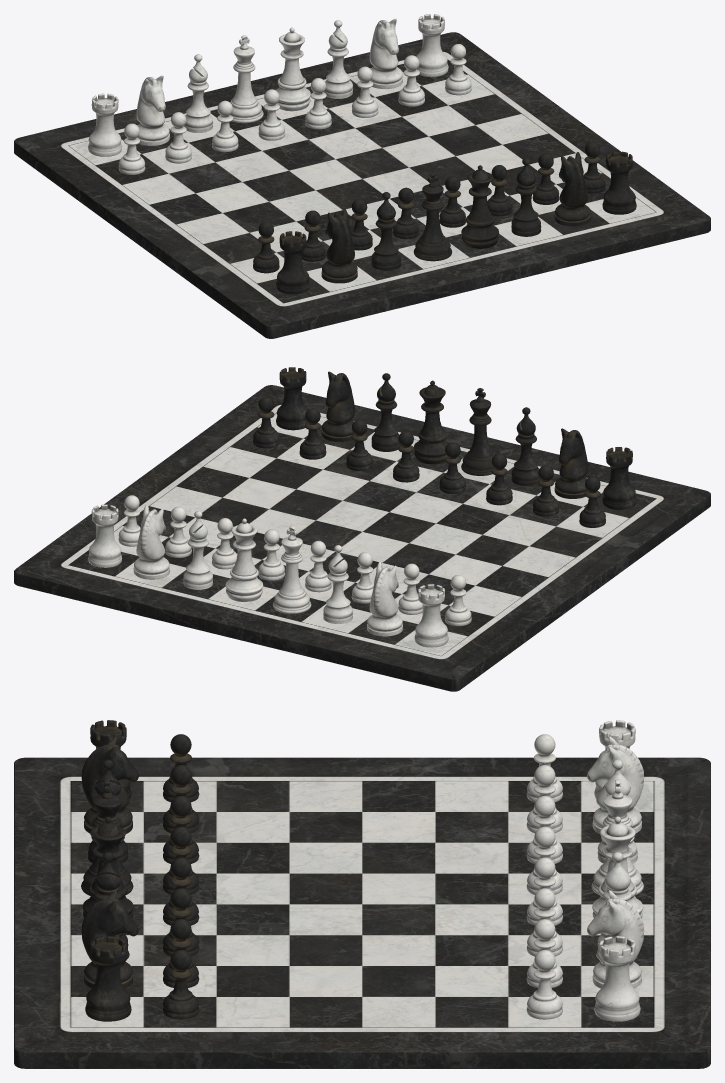
The model's file is chess_set.gltf.
3 views of the same model, one above another, from view 1: azimuth 30°, elevation 25°; view 2: azimuth 150°, elevation 25°; view 3: azimuth 270°, elevation 25° (orthographic). The views are drawn at different scales.
Visible parts, largest first — view 1: board, piece_queen_black, piece_knight_black_01, piece_knight_black_02, piece_queen_white, piece_knight_white_02, piece_knight_white_01, piece_king_black, piece_king_white, piece_rook_black_01, piece_rook_black_02, piece_rook_white_02 (+21 smaller); view 2: board, piece_queen_white, piece_knight_white_01, piece_knight_white_02, piece_queen_black, piece_knight_black_01, piece_knight_black_02, piece_king_white, piece_king_black, piece_rook_white_02, piece_rook_black_01, piece_rook_white_01 (+21 smaller); view 3: board, piece_rook_black_02, piece_rook_white_01, piece_knight_black_02, piece_knight_white_01, piece_knight_black_01, piece_knight_white_02, piece_queen_white, piece_queen_black, piece_pawn_white_01, piece_pawn_black_08, piece_king_white (+21 smaller).
Boxes of the visible parts, x1=… form: board: x1=14, y1=32, x2=710, y2=338; piece_queen_black: x1=461, y1=165, x2=498, y2=248; piece_knight_black_01: x1=321, y1=209, x2=357, y2=283; piece_knight_black_02: x1=554, y1=152, x2=590, y2=226; piece_queen_white: x1=275, y1=27, x2=310, y2=111; piece_knight_white_02: x1=136, y1=75, x2=169, y2=145; piece_knight_white_01: x1=369, y1=18, x2=402, y2=88; piece_king_black: x1=413, y1=173, x2=452, y2=261; piece_king_white: x1=230, y1=35, x2=263, y2=123; piece_rook_black_01: x1=276, y1=231, x2=310, y2=294; piece_rook_black_02: x1=602, y1=151, x2=636, y2=214; piece_rook_white_02: x1=88, y1=93, x2=122, y2=156; board: x1=14, y1=385, x2=710, y2=691; piece_queen_white: x1=225, y1=518, x2=263, y2=601; piece_knight_white_01: x1=133, y1=505, x2=169, y2=579; piece_knight_white_02: x1=367, y1=562, x2=402, y2=636; piece_queen_black: x1=414, y1=380, x2=448, y2=464; piece_knight_black_01: x1=554, y1=428, x2=588, y2=498; piece_knight_black_02: x1=321, y1=371, x2=354, y2=442; piece_king_white: x1=272, y1=526, x2=311, y2=613; piece_king_black: x1=461, y1=388, x2=494, y2=475; piece_rook_white_02: x1=414, y1=584, x2=448, y2=647; piece_rook_black_01: x1=602, y1=447, x2=636, y2=509; piece_rook_white_01: x1=88, y1=504, x2=122, y2=567; board: x1=14, y1=757, x2=710, y2=1068; piece_rook_black_02: x1=85, y1=936, x2=131, y2=1021; piece_rook_white_01: x1=594, y1=936, x2=640, y2=1021; piece_knight_black_02: x1=81, y1=890, x2=138, y2=988; piece_knight_white_01: x1=587, y1=890, x2=644, y2=988; piece_knight_black_01: x1=81, y1=736, x2=138, y2=833; piece_knight_white_02: x1=587, y1=736, x2=644, y2=833; piece_queen_white: x1=592, y1=816, x2=643, y2=917; piece_queen_black: x1=82, y1=816, x2=133, y2=917; piece_pawn_white_01: x1=526, y1=950, x2=562, y2=1019; piece_pawn_black_08: x1=163, y1=950, x2=199, y2=1019; piece_king_white: x1=591, y1=779, x2=643, y2=895.
Size of the model in its own units: 0.5532 by 0.1124 by 0.5532.
3 materials, 3 textured.
